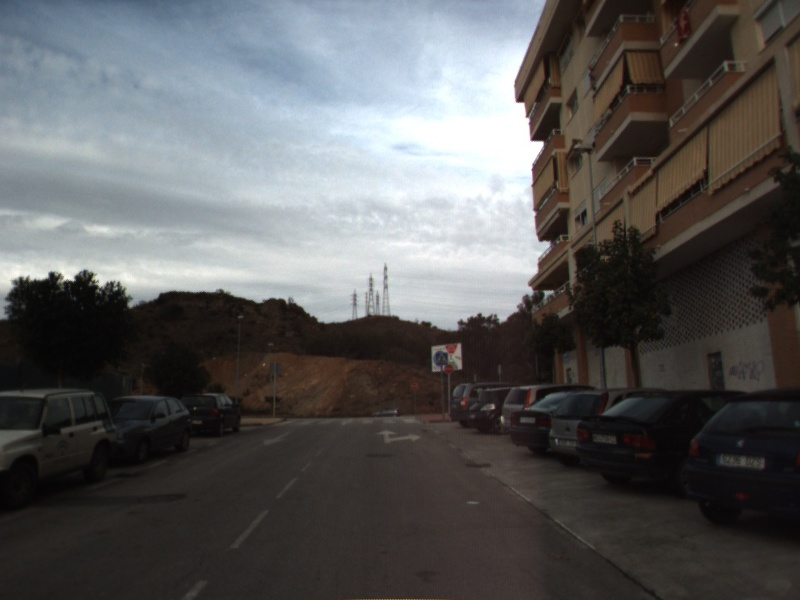STRAIGHT_RIGHT: (374, 427, 423, 446)
